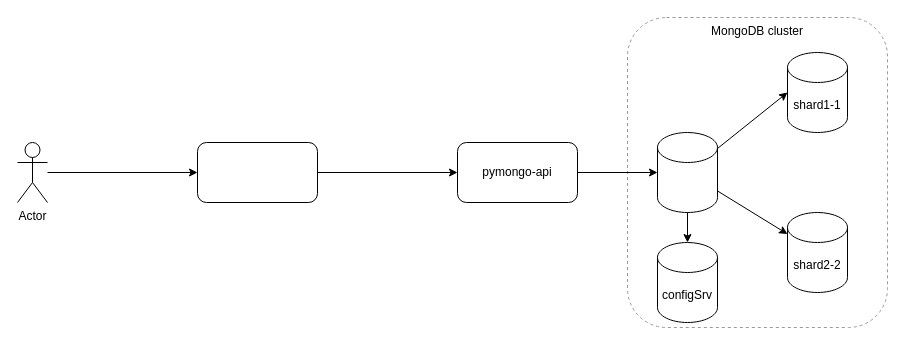
Image size: 905x345. Some labels were removed from this diagram. The shapes that lost their labels are listed below. From the top down, each one's centre as x and y in pixels, then its label:
the point at 257,172: React/Nginx
the point at 687,172: mongos
